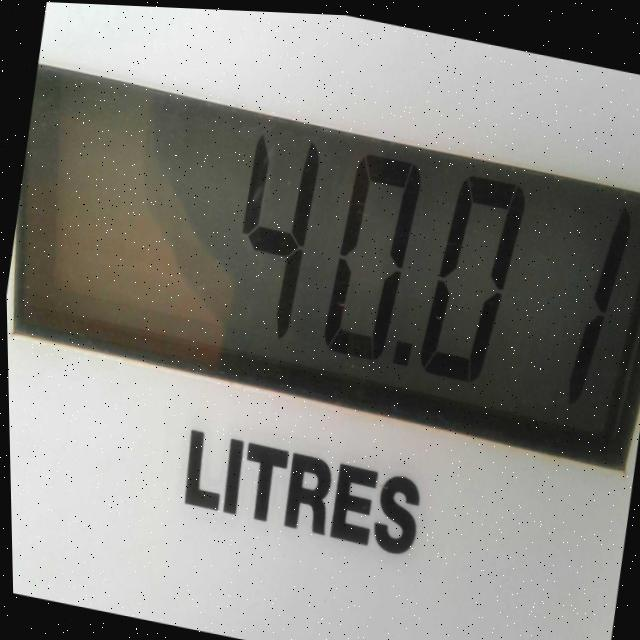.: (384, 324, 422, 384)
0: (403, 159, 528, 406), (314, 138, 428, 380)
1: (555, 184, 634, 407)
4: (215, 123, 338, 361)
